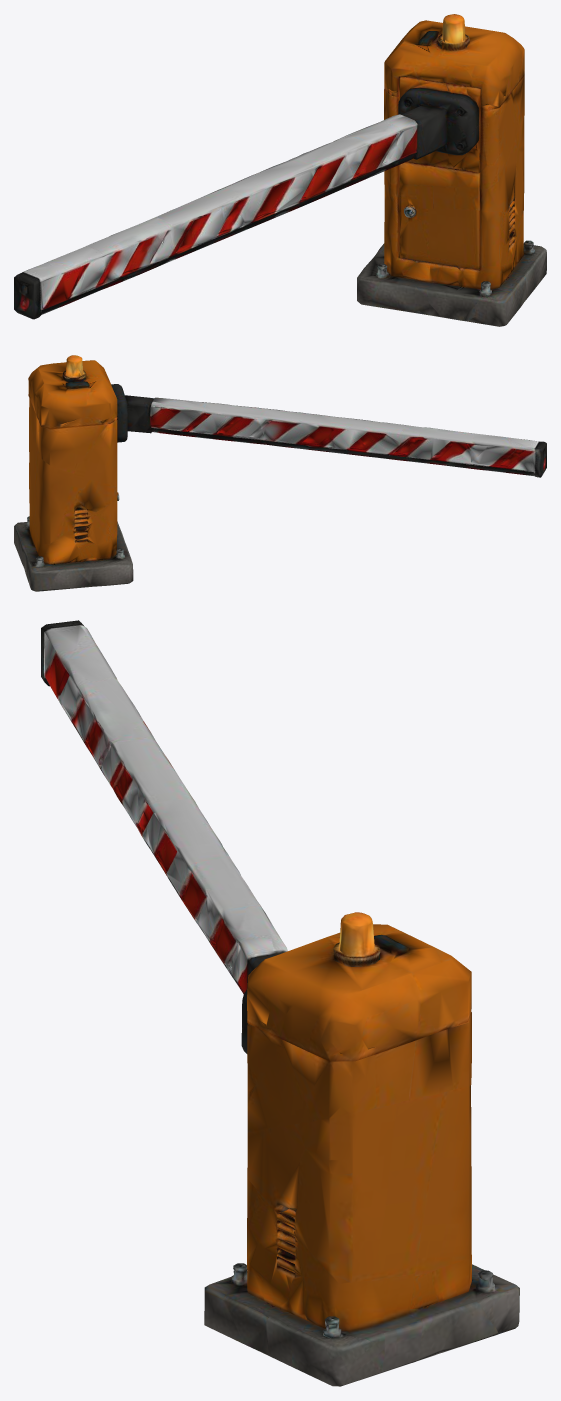
File: veh-d-boom.glb
The picture shows the model from 3 angles, top to bottom: view 1: azimuth 30°, elevation 25°; view 2: azimuth 150°, elevation 25°; view 3: azimuth 270°, elevation 25°; orthographic projection. The views are drawn at different scales.
Visible parts, largest first — view 1: tripo_node_a165ba93-83dc-4c42-a61e-6fea87bb46b9; view 2: tripo_node_a165ba93-83dc-4c42-a61e-6fea87bb46b9; view 3: tripo_node_a165ba93-83dc-4c42-a61e-6fea87bb46b9.
Boxes of the visible parts, x1,y1,x2,y2 form: tripo_node_a165ba93-83dc-4c42-a61e-6fea87bb46b9: (14,14,546,326); tripo_node_a165ba93-83dc-4c42-a61e-6fea87bb46b9: (14,355,546,591); tripo_node_a165ba93-83dc-4c42-a61e-6fea87bb46b9: (41,620,519,1386).
Bounding box in the file's own units: 0.9795 × 0.4155 × 0.4393.
Materials: 1 (1 with a texture image).
